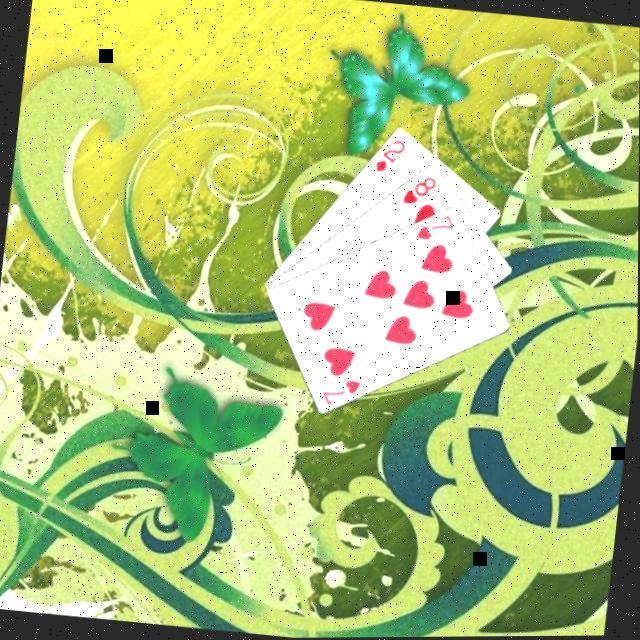2D: (373, 136, 410, 179)
7H: (318, 376, 366, 414), (414, 210, 461, 248)
8H: (400, 172, 441, 212)
